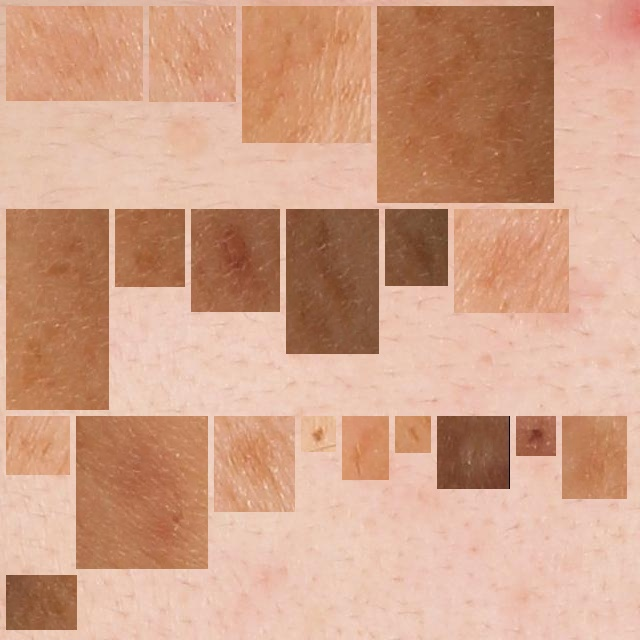hypertrophic_scar: (445, 424, 502, 481)
melasma: (385, 14, 546, 195), (14, 217, 101, 402), (84, 424, 200, 561), (250, 14, 363, 135), (294, 217, 371, 346), (14, 14, 135, 93), (462, 217, 561, 305), (199, 217, 272, 304), (157, 14, 228, 94), (222, 424, 287, 504), (123, 217, 177, 279), (570, 424, 619, 491), (393, 217, 440, 278), (14, 583, 69, 622), (14, 424, 62, 467), (350, 424, 381, 472), (403, 424, 423, 445)
nevus: (524, 424, 548, 448)
